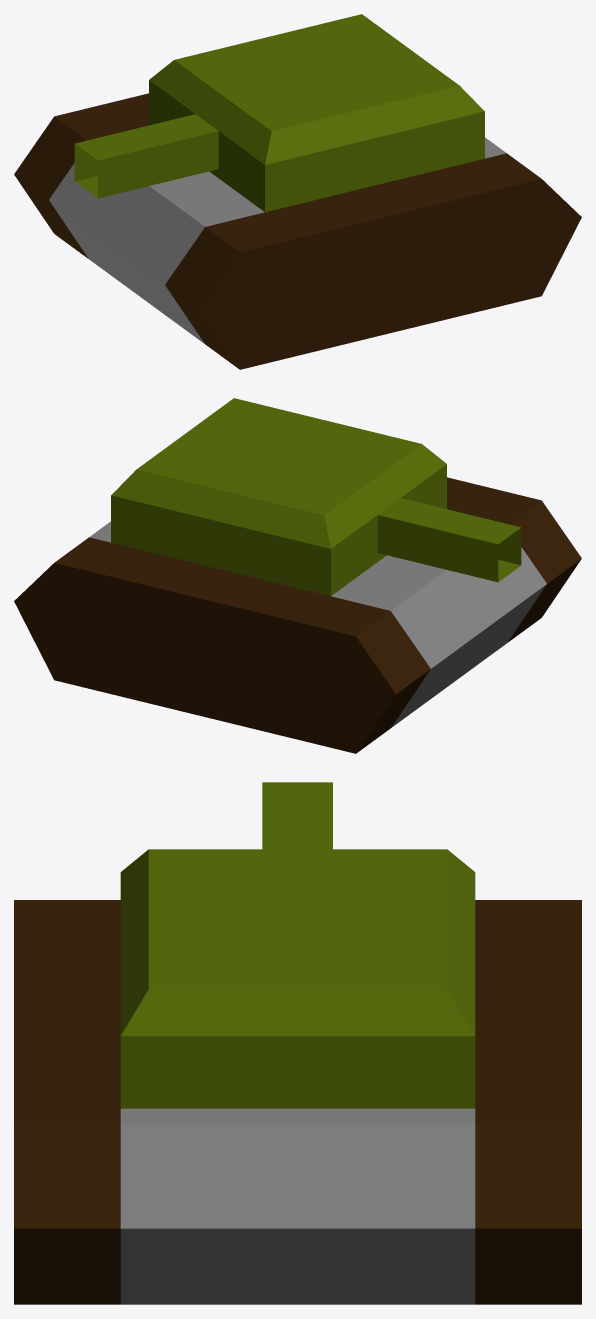
Rendered from tank_npc_3.glb.
The picture shows the model from 3 angles, top to bottom: view 1: azimuth 30°, elevation 25°; view 2: azimuth 150°, elevation 25°; view 3: azimuth 270°, elevation 25°; orthographic projection. The views are drawn at different scales.
Visible parts, largest first — view 1: tank_npc_3; view 2: tank_npc_3; view 3: tank_npc_3.
Boxes of the visible parts, x1,y1,x2,y2 form: tank_npc_3: [14, 14, 581, 369]; tank_npc_3: [14, 398, 581, 753]; tank_npc_3: [14, 782, 581, 1304].
Bounding box in the file's own units: 2 × 0.8918 × 1.6.
Materials: 1 (1 with a texture image).
